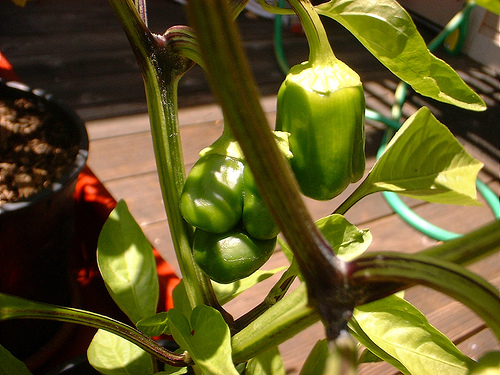capsicum: (273, 1, 369, 203), (176, 125, 284, 283)
